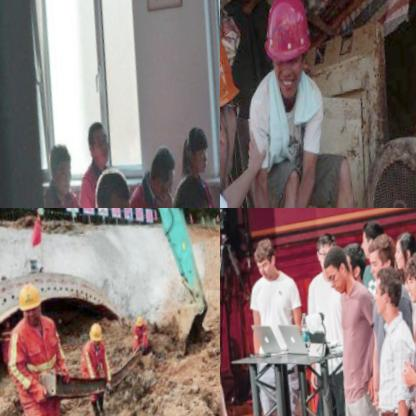head: (145, 141, 185, 204), (180, 116, 218, 179), (90, 163, 142, 208), (370, 266, 407, 319), (45, 138, 80, 194), (321, 242, 357, 296), (169, 170, 220, 208), (84, 116, 116, 168), (365, 232, 400, 278), (313, 231, 341, 274), (388, 230, 416, 272), (357, 219, 386, 259), (251, 237, 278, 278), (342, 242, 367, 279), (400, 253, 416, 304)
helmet: (220, 8, 265, 194), (257, 0, 321, 93), (14, 277, 51, 327), (86, 318, 111, 353), (136, 311, 155, 334)
